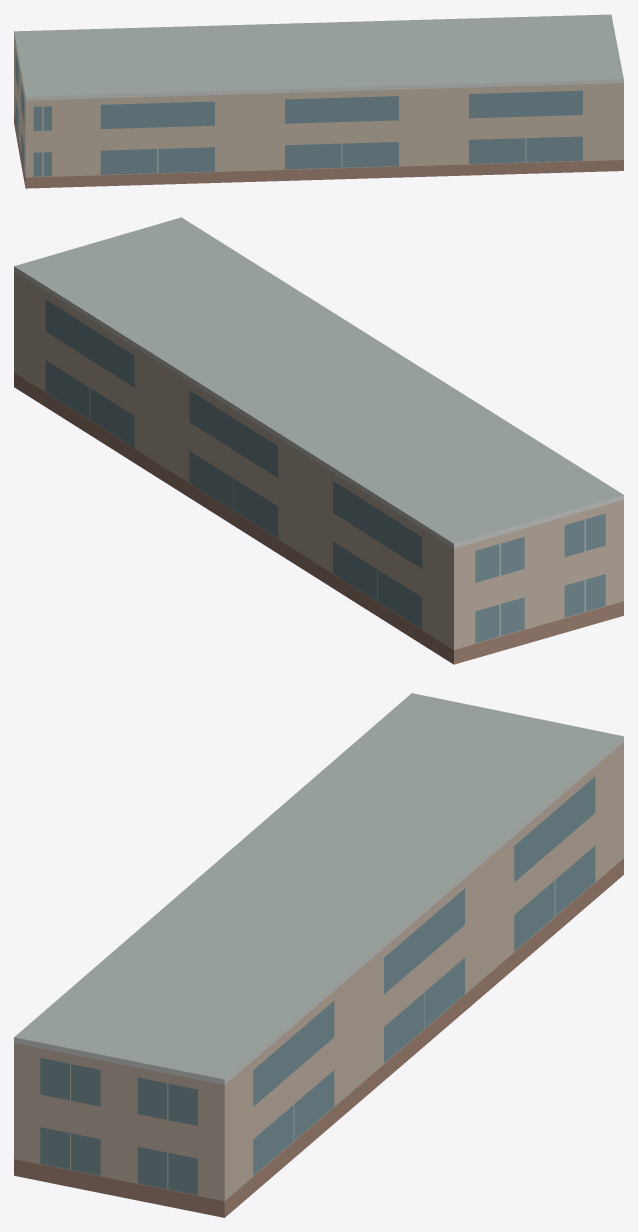
File: survey-upis-32491912.glb
3 renders of one model, top to bottom at view 1: azimuth 30°, elevation 25°; view 2: azimuth 150°, elevation 25°; view 3: azimuth 270°, elevation 25°, orthographic. The views are drawn at different scales.
Visible parts, largest first — view 1: survey-upis-32491912.tmp; view 2: survey-upis-32491912.tmp; view 3: survey-upis-32491912.tmp.
Boxes of the visible parts, x1,y1,x2,y2 form: survey-upis-32491912.tmp: (14,14,623,188); survey-upis-32491912.tmp: (14,217,623,664); survey-upis-32491912.tmp: (14,693,623,1217).
Bounding box in the file's own units: 36.53 × 6.1 × 24.36.
